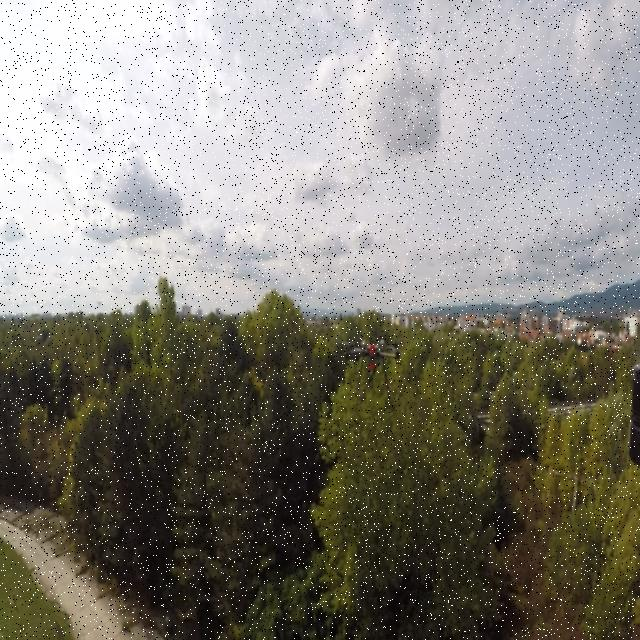UAV: (338, 330, 406, 402)
